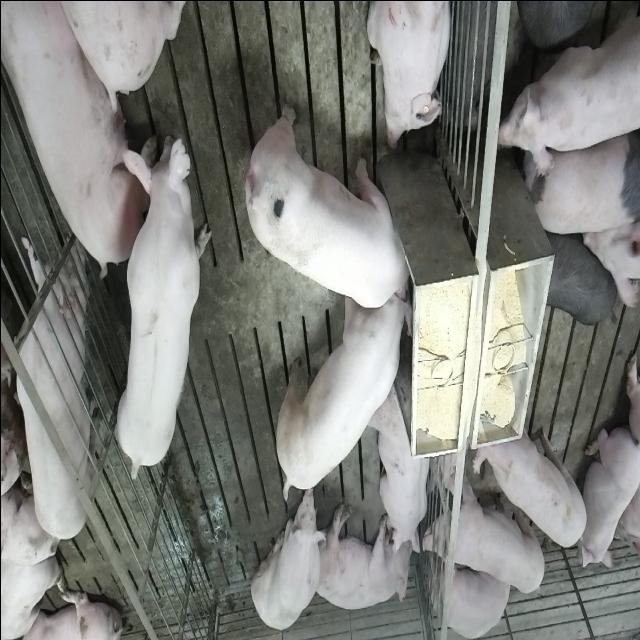Feeding: (248, 99, 421, 308), (273, 282, 409, 504)
Lateral_lying: (3, 4, 156, 279), (314, 502, 413, 611)
Sitting: (250, 484, 327, 632)
Standing: (110, 115, 208, 475), (0, 223, 93, 546), (496, 0, 638, 185), (473, 403, 588, 548), (422, 469, 546, 594), (525, 127, 637, 240), (542, 226, 617, 328)
Sternal_lying: (368, 0, 455, 150), (372, 380, 432, 556), (580, 418, 638, 568), (433, 554, 512, 638)
